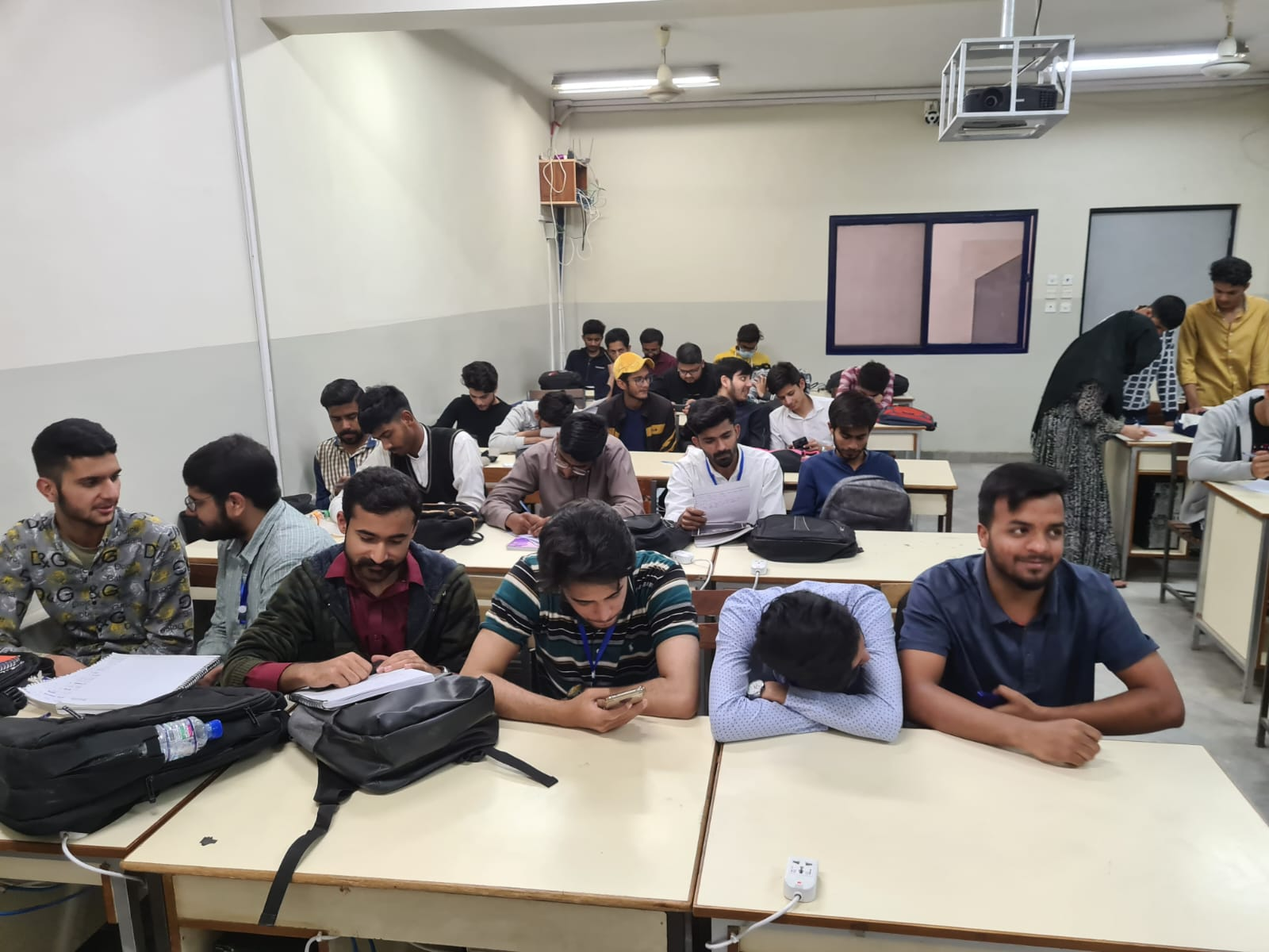non-cheating: (532, 500, 645, 635), (971, 459, 1080, 595), (330, 462, 427, 590), (356, 382, 425, 460), (684, 395, 745, 470), (550, 411, 609, 481), (827, 389, 880, 461), (319, 374, 370, 446), (1206, 255, 1257, 313), (610, 350, 657, 402), (457, 359, 501, 413), (672, 340, 707, 386), (579, 317, 607, 354), (735, 320, 761, 357), (638, 326, 665, 361)
phone: (564, 678, 661, 739), (785, 432, 825, 459), (669, 395, 696, 414)
